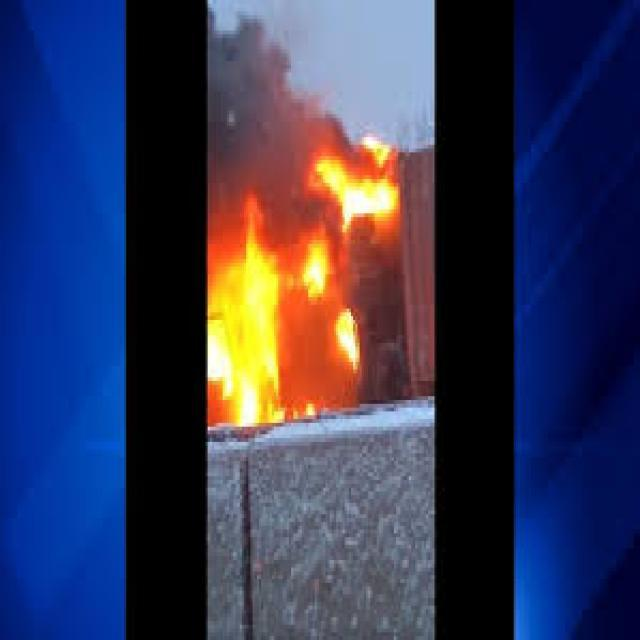Fire: (206, 138, 402, 424)
Smoke: (208, 0, 339, 140)
